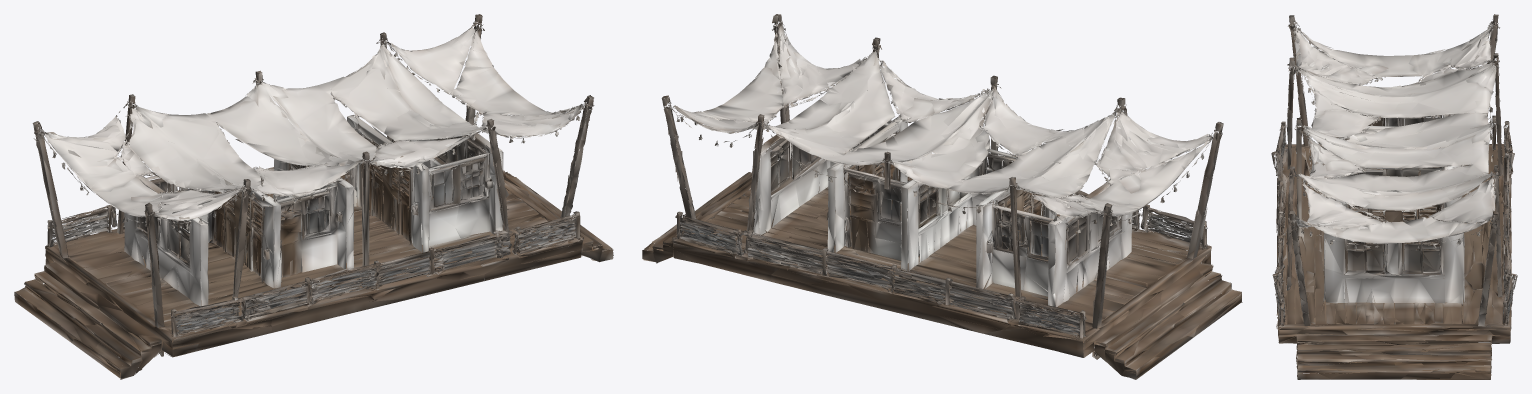
Rendered from artpav.glb.
3 views of the same model, side by side, from view 1: azimuth 30°, elevation 25°; view 2: azimuth 150°, elevation 25°; view 3: azimuth 270°, elevation 25° (orthographic). The views are drawn at different scales.
Visible parts, largest first — view 1: LO.001; view 2: LO.001; view 3: LO.001.
Part boxes in pixels (x1,y1,x2,y2): LO.001: [14, 14, 613, 379]; LO.001: [642, 14, 1242, 379]; LO.001: [1271, 14, 1517, 379].
Bounding box in the file's own units: 1.91 × 0.6484 × 0.9001.
Materials: 1 (1 with a texture image).
